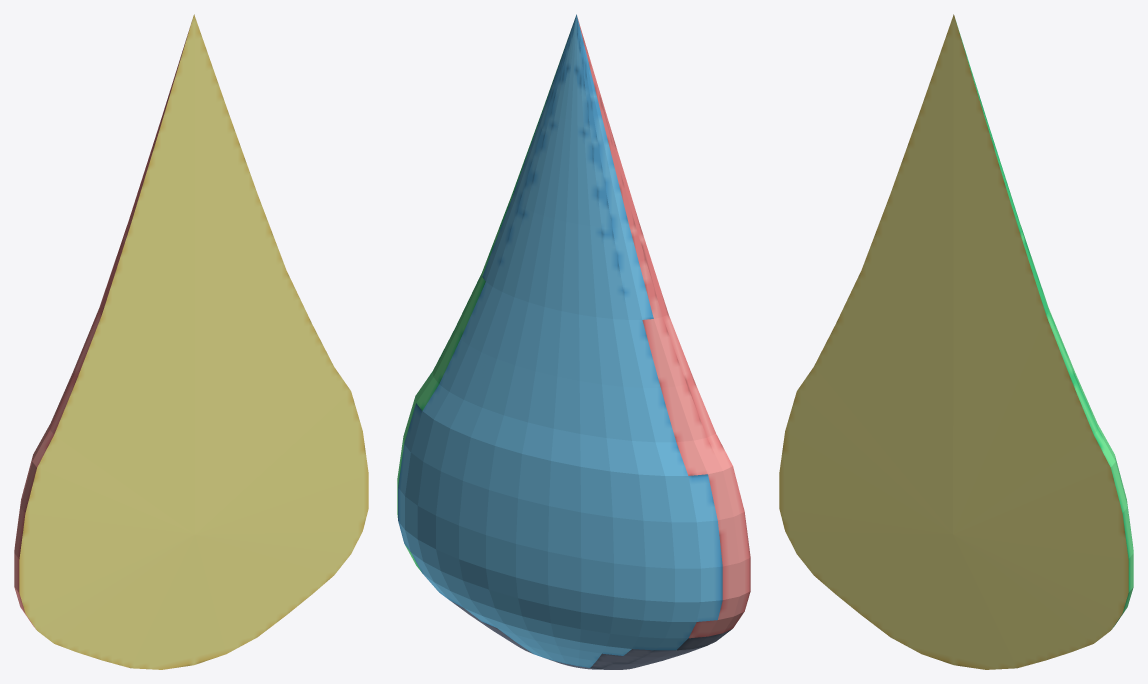
Rendered from monster.obj.
3 renders of one model, left to right at view 1: azimuth 30°, elevation 25°; view 2: azimuth 150°, elevation 25°; view 3: azimuth 330°, elevation 25°, orthographic.
Parts seen in each view (by area): view 1: sphere; view 2: sphere; view 3: sphere.
Part boxes in pixels (<box>): sphere: <box>14,14,368,669</box>; sphere: <box>397,14,750,669</box>; sphere: <box>779,14,1133,669</box>.
Size of the model in its own units: 4 by 7.12 by 0.9052.
